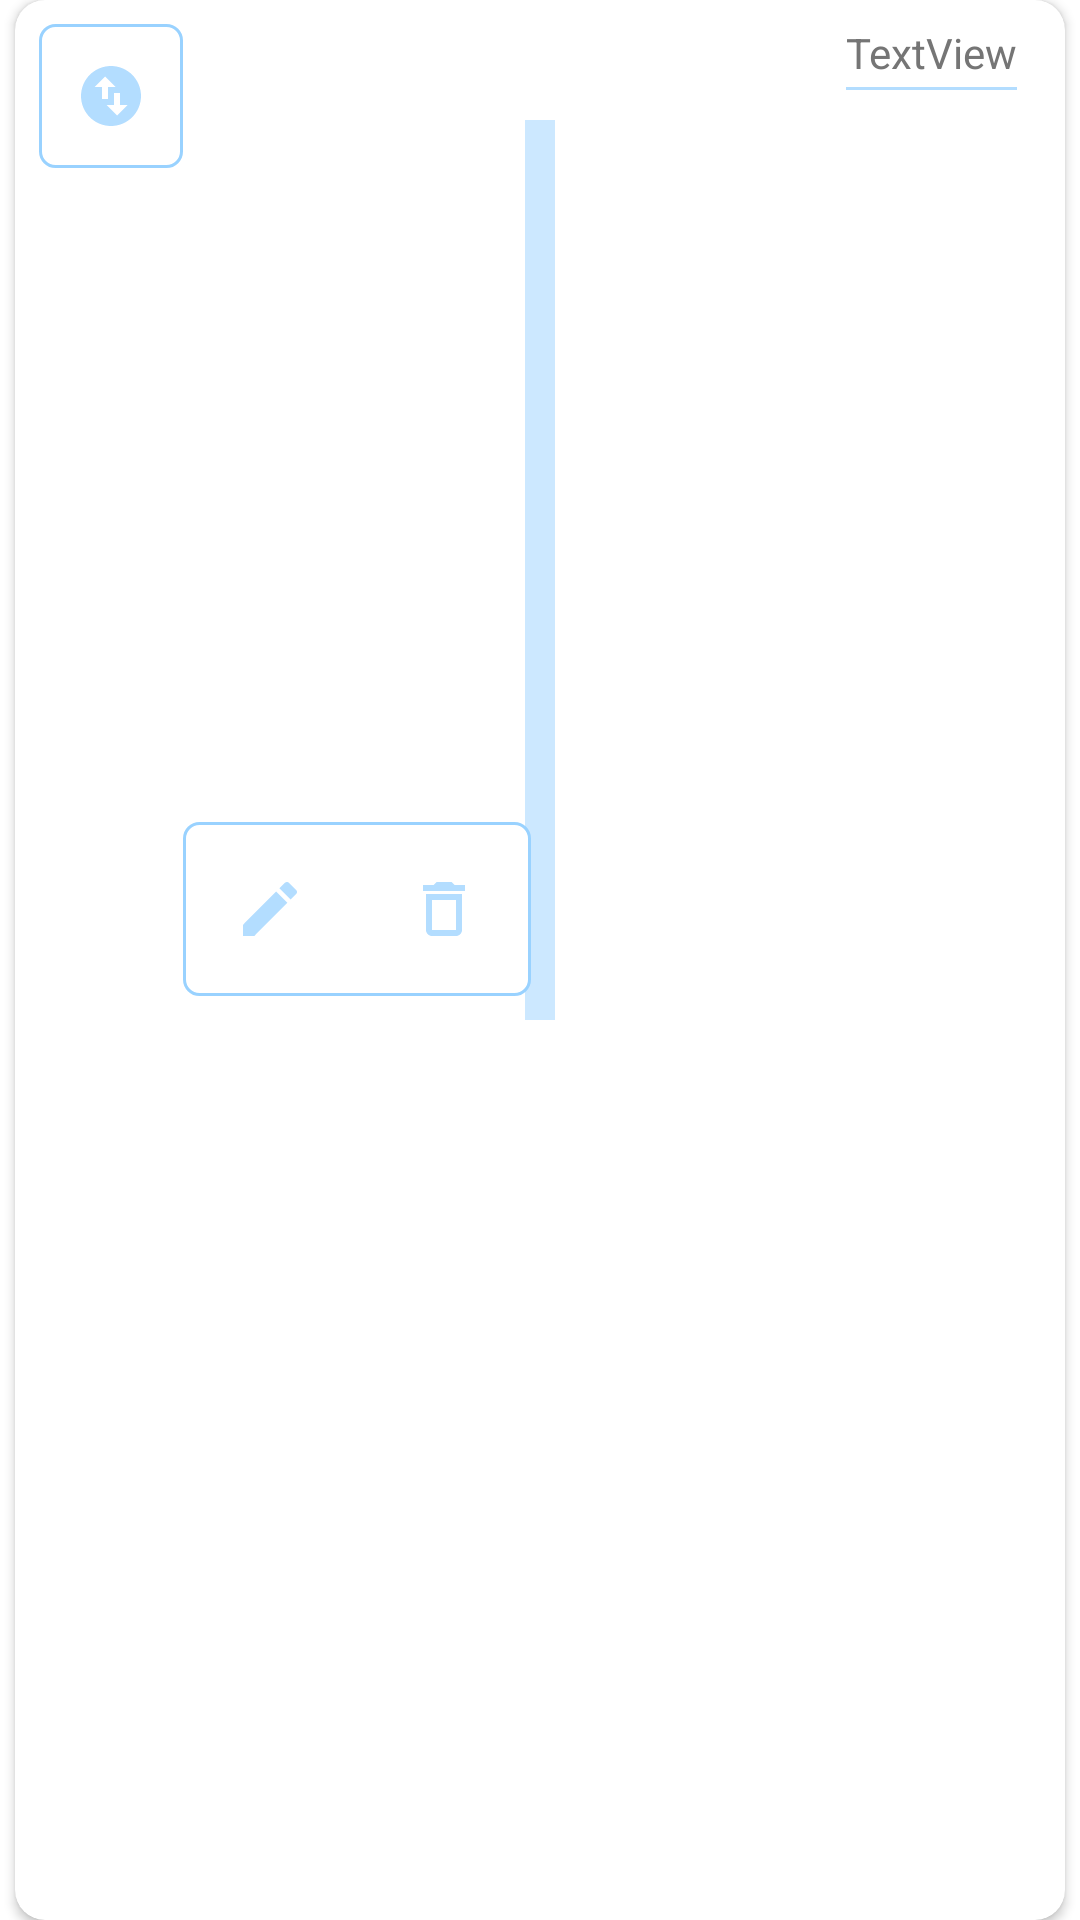

Where icons sit on this 1080px x 1920px app screen, as (x1, y1, x2, y2):
delete: (423, 882, 465, 936)
edit: (243, 882, 297, 936)
